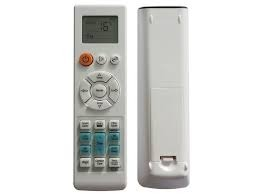remote control: (71, 3, 132, 194), (137, 3, 194, 194)
